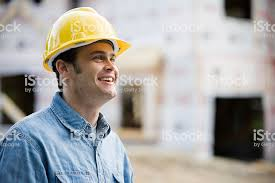Person_wearing_helmet: (35, 3, 133, 73)
